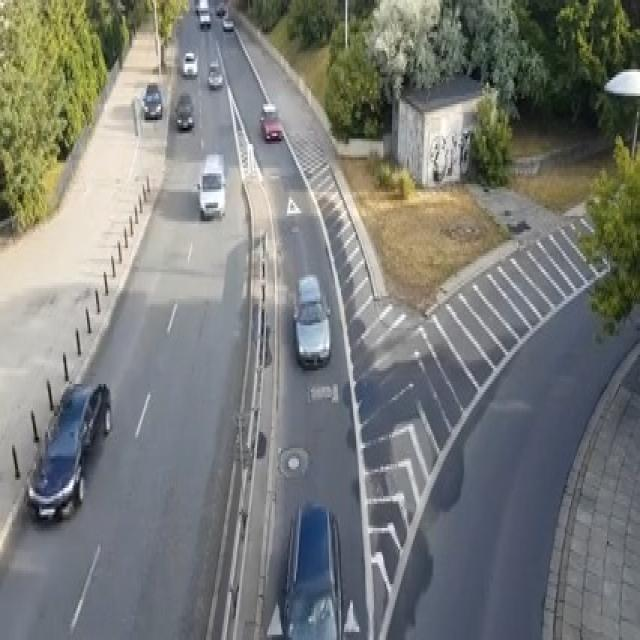car: (26, 379, 111, 520), (281, 499, 342, 637), (292, 272, 331, 368), (197, 152, 225, 219), (260, 102, 282, 142), (141, 83, 162, 120), (174, 91, 194, 128), (208, 59, 222, 88), (182, 51, 197, 77), (198, 8, 210, 27), (221, 13, 233, 30), (215, 0, 227, 16), (193, 0, 207, 13)
